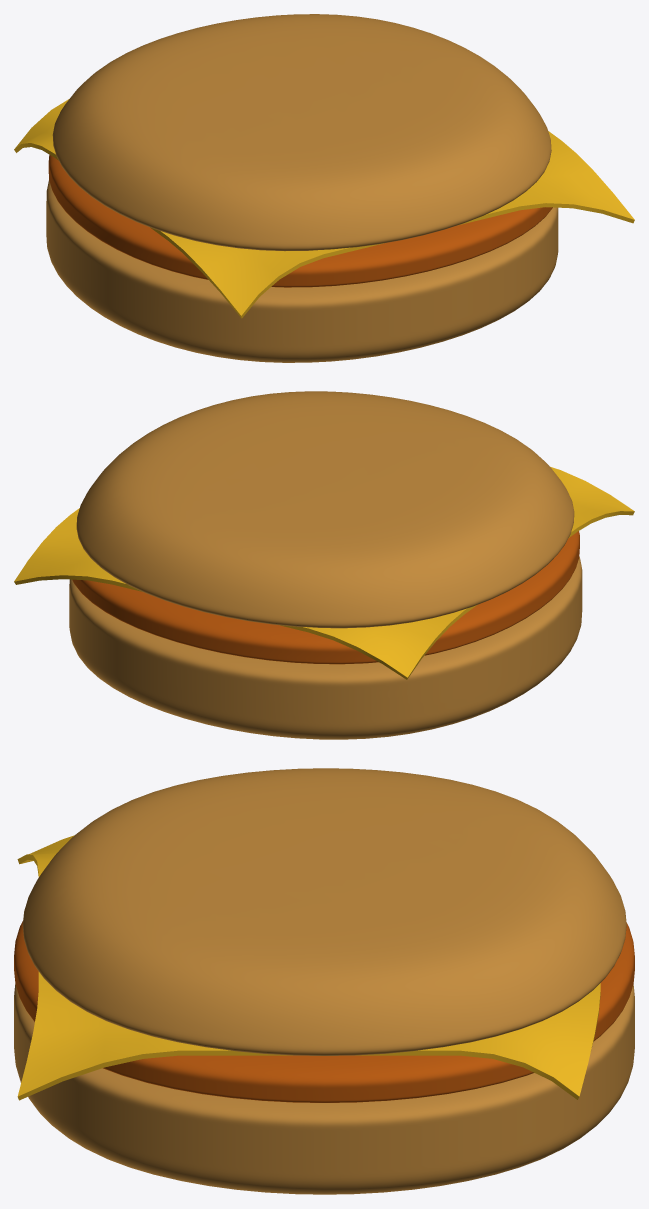
File: hamburger.glb
3 renders of one model, top to bottom at view 1: azimuth 30°, elevation 25°; view 2: azimuth 150°, elevation 25°; view 3: azimuth 270°, elevation 25°, orthographic. The views are drawn at different scales.
Visible parts, largest first — view 1: Cube.002, Cube, Cube.001, Plane; view 2: Cube.002, Cube, Cube.001, Plane; view 3: Cube.002, Cube, Cube.001, Plane.
Boxes of the visible parts, x1=… form: Cube.002: x1=52, y1=14, x2=551, y2=251; Cube: x1=46, y1=180, x2=558, y2=362; Cube.001: x1=48, y1=155, x2=552, y2=287; Plane: x1=14, y1=99, x2=634, y2=318; Cube.002: x1=76, y1=391, x2=574, y2=628; Cube: x1=69, y1=556, x2=582, y2=739; Cube.001: x1=72, y1=531, x2=579, y2=664; Plane: x1=14, y1=466, x2=634, y2=679; Cube.002: x1=22, y1=768, x2=626, y2=1055; Cube: x1=14, y1=984, x2=634, y2=1194; Cube.001: x1=14, y1=920, x2=634, y2=1102; Plane: x1=17, y1=835, x2=600, y2=1100.
Size of the model in its own units: 9.2 by 3.74 by 9.16.
